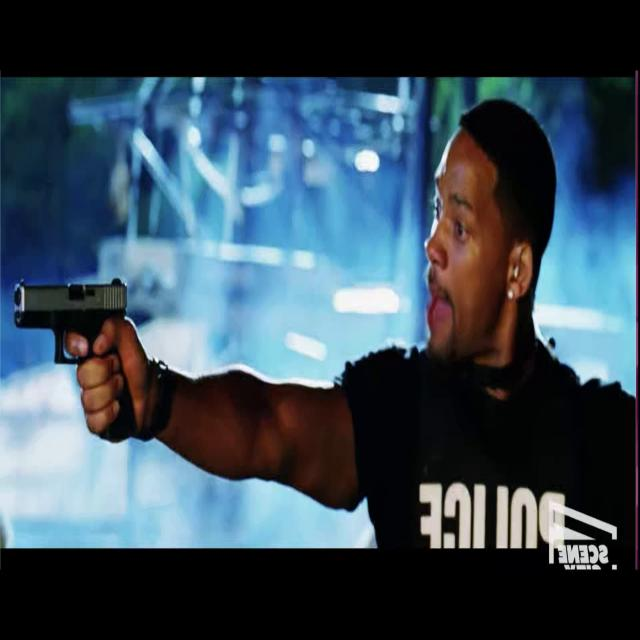weapons: (9, 256, 149, 434)
